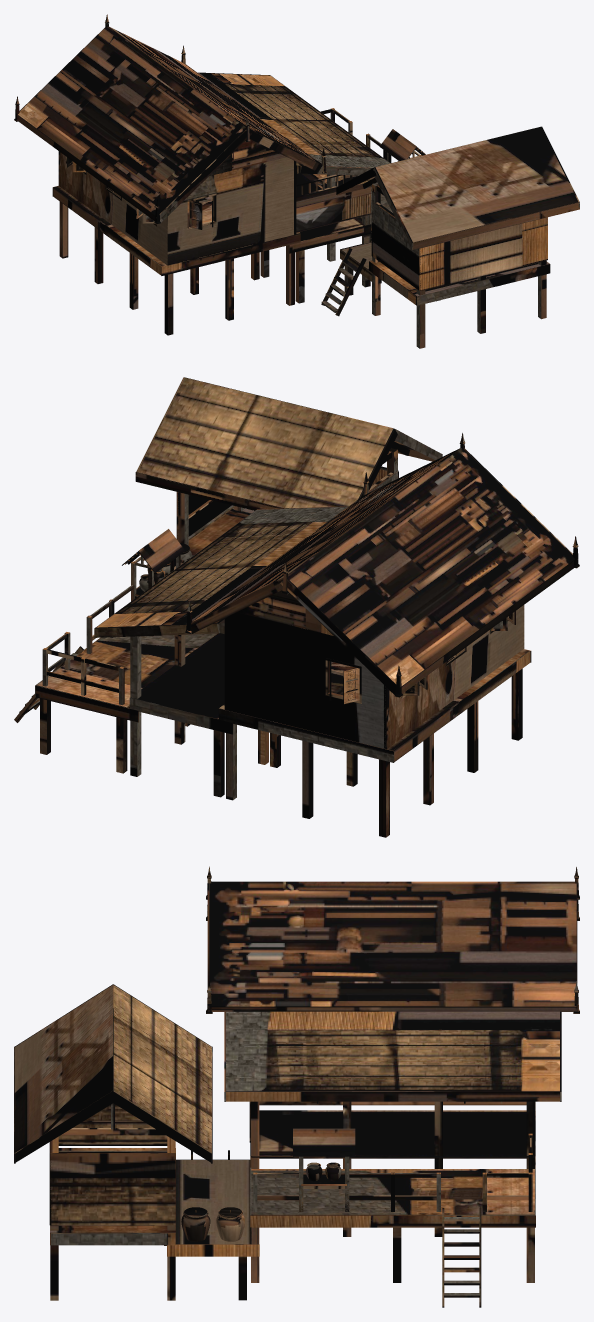
The model's file is isanhouse.fbx.
3 renders of one model, top to bottom at view 1: azimuth 30°, elevation 25°; view 2: azimuth 150°, elevation 25°; view 3: azimuth 270°, elevation 25°, orthographic. The views are drawn at different scales.
Visible parts, largest first — view 1: Cube.154; view 2: Cube.154; view 3: Cube.154.
Boxes of the visible parts, x1,y1,x2,y2 form: Cube.154: [14, 14, 579, 348]; Cube.154: [14, 377, 579, 837]; Cube.154: [14, 866, 579, 1307].
Size of the model in its own units: 9 by 5.29 by 9.62.
